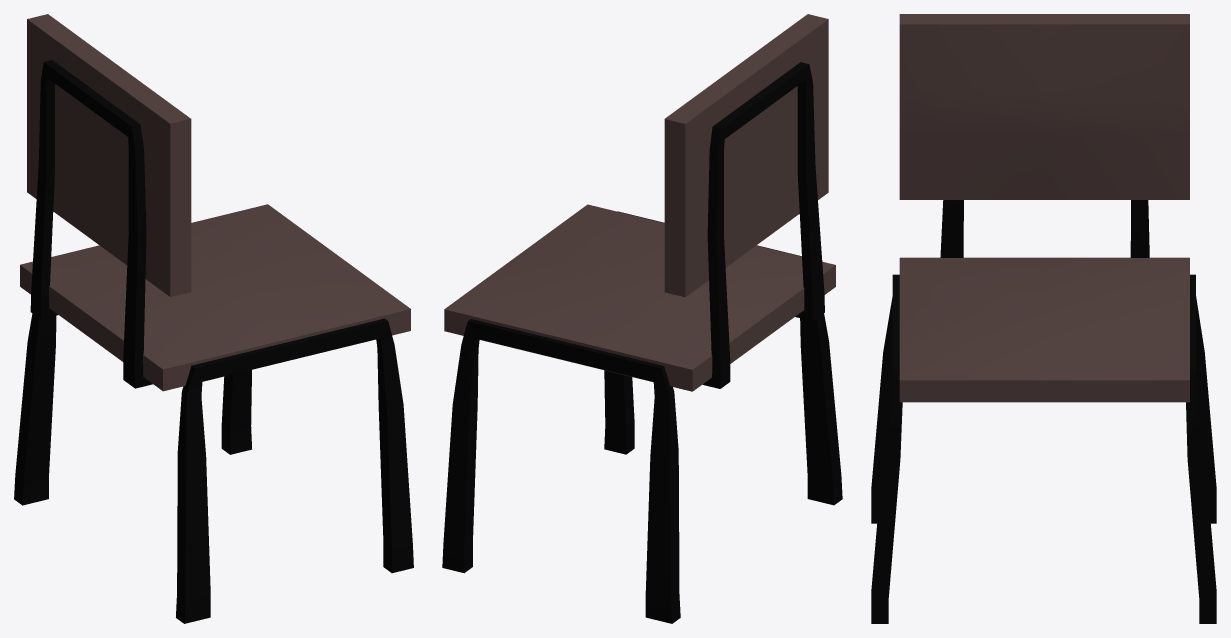
The model's file is Class_chair_child.fbx.
3 views of the same model, side by side, from view 1: azimuth 30°, elevation 25°; view 2: azimuth 150°, elevation 25°; view 3: azimuth 270°, elevation 25° (orthographic).
Parts seen in each view (by area): view 1: pCube7, pCube9, pCube48, pCube10; view 2: pCube7, pCube9, pCube48, pCube10; view 3: pCube9, pCube7, pCube48, pCube10.
Boxes of the visible parts, x1,y1,x2,y2 form: pCube7: (20,204,410,391); pCube9: (27,14,191,296); pCube48: (14,313,413,623); pCube10: (30,60,152,388); pCube7: (444,204,835,391); pCube9: (664,14,828,297); pCube48: (442,211,842,623); pCube10: (702,62,824,388); pCube9: (899,14,1189,199); pCube7: (899,257,1189,402); pCube48: (871,274,1216,623); pCube10: (940,200,1149,257).
Bounding box in the file's own units: 1.03 × 1.89 × 1.19.
